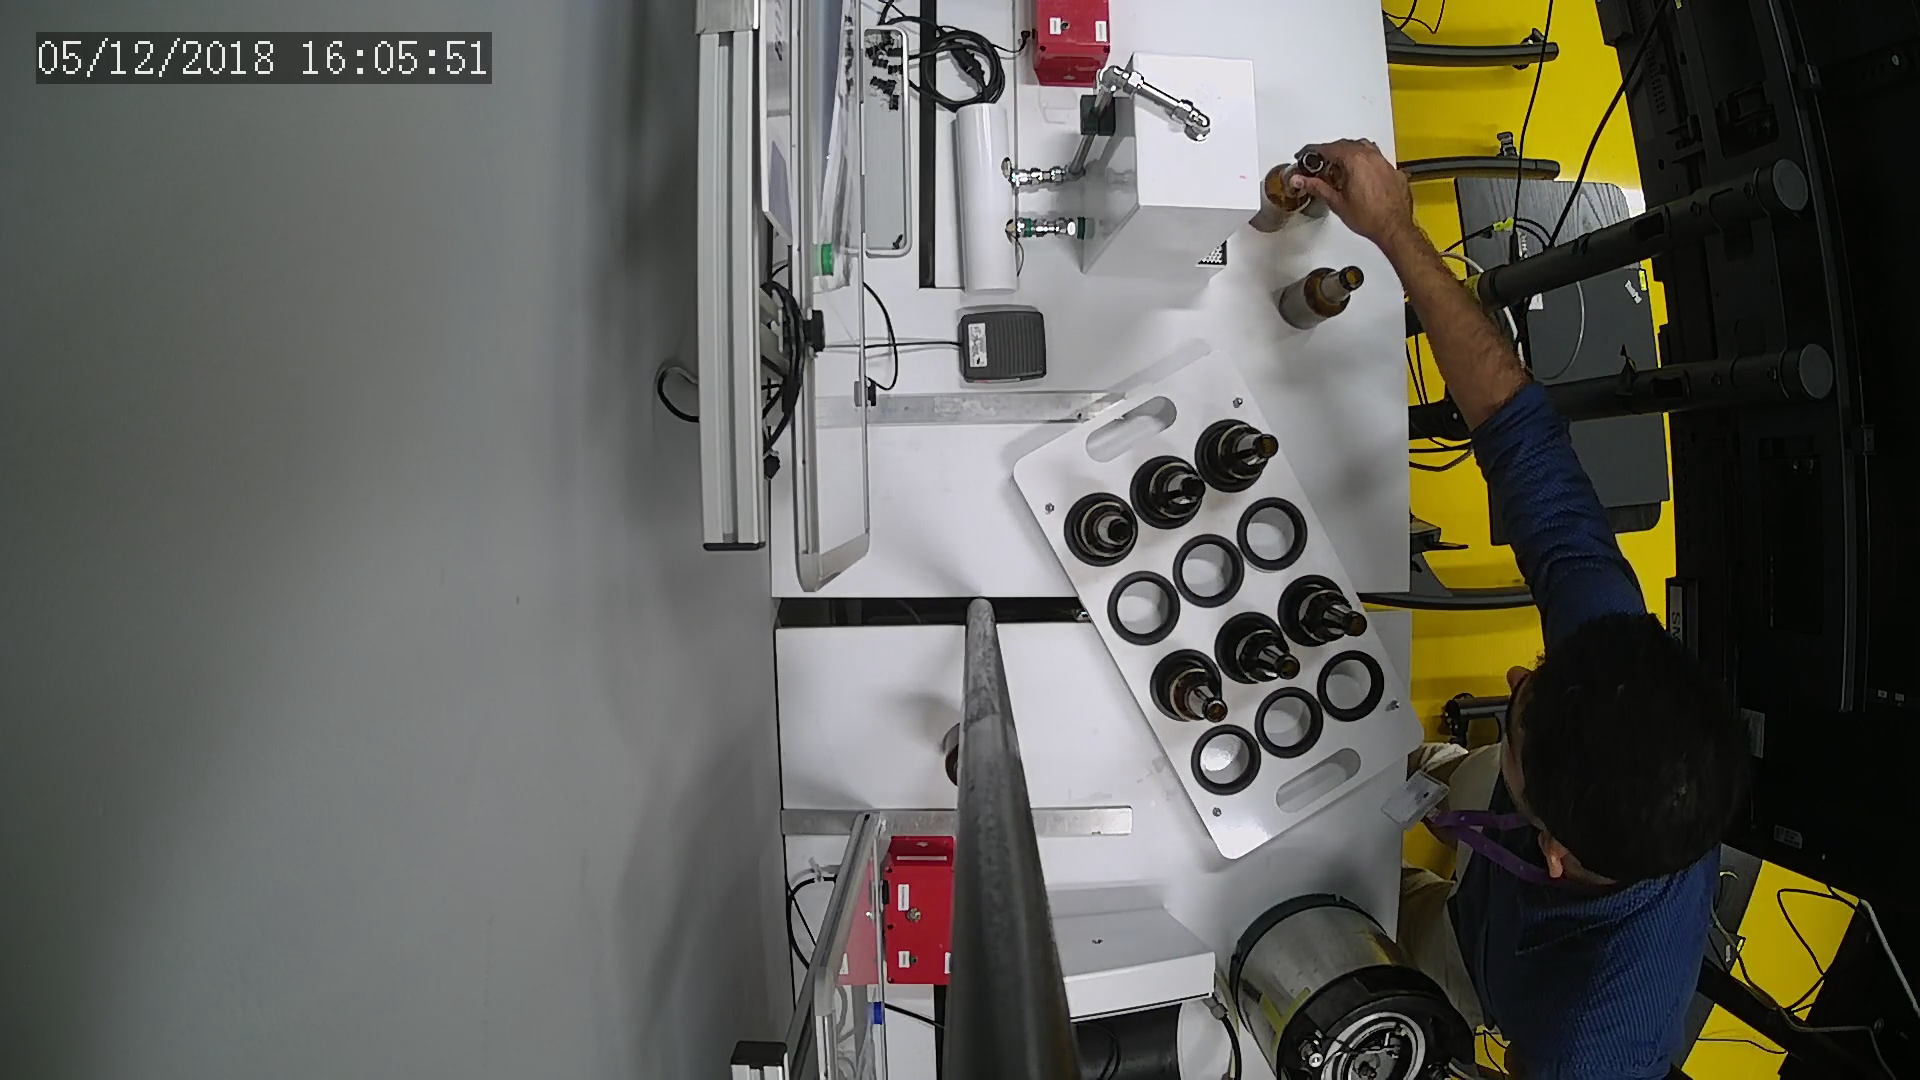filled_bottle: (1280, 574, 1375, 653), (1151, 649, 1233, 732), (1220, 609, 1305, 688), (1204, 415, 1283, 495), (1064, 491, 1143, 566), (1131, 455, 1212, 527)
trolley: (1014, 351, 1429, 861)
unfilled_bottle: (1253, 142, 1328, 236), (1274, 262, 1367, 336)
